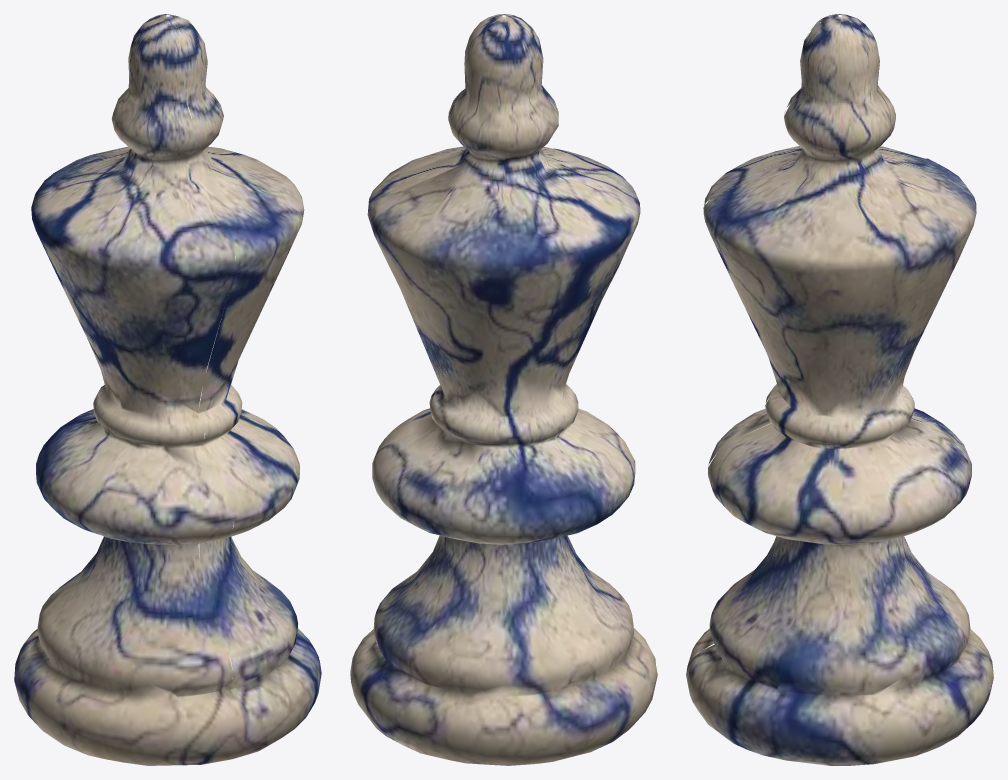
The model's file is cobalt_vein_white_king.glb.
The picture shows the model from 3 angles, left to right: view 1: azimuth 30°, elevation 25°; view 2: azimuth 150°, elevation 25°; view 3: azimuth 270°, elevation 25°; orthographic projection.
Visible parts, largest first — view 1: Cobalt Vein white king; view 2: Cobalt Vein white king; view 3: Cobalt Vein white king.
Boxes of the visible parts, x1,y1,x2,y2 form: Cobalt Vein white king: (14,14,321,765); Cobalt Vein white king: (350,14,657,765); Cobalt Vein white king: (686,14,993,765).
Bounding box in the file's own units: 0.04 × 0.0997 × 0.04.
1 material, 1 textured.
